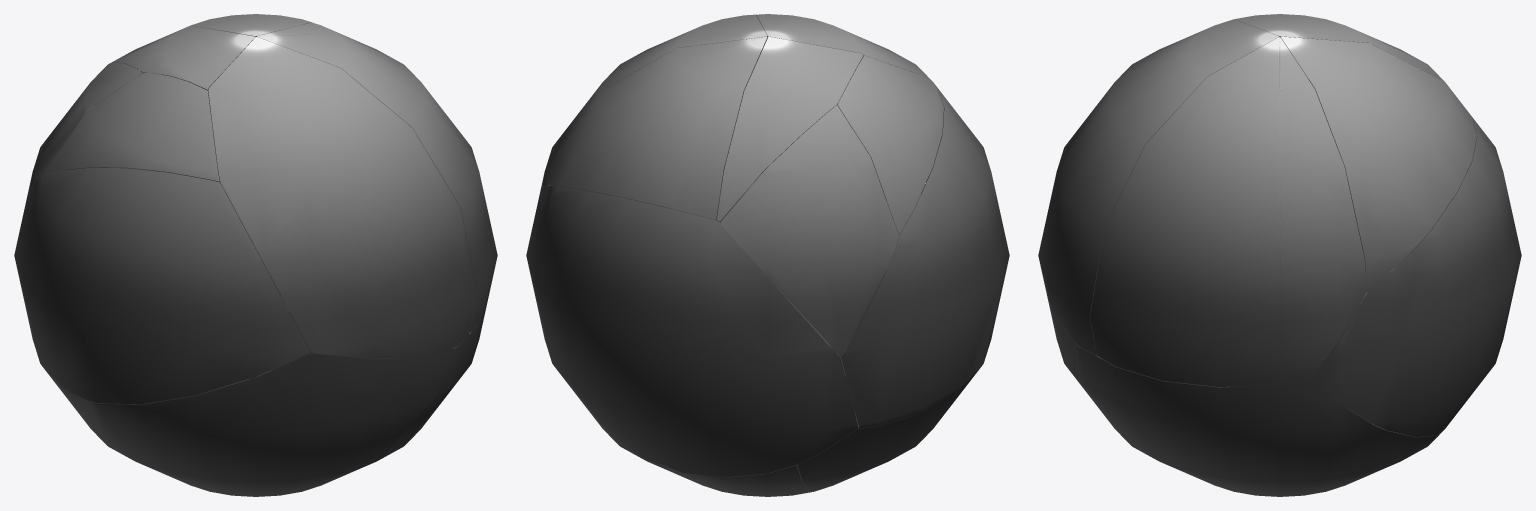
File: BallPieces.fbx
3 views of the same model, side by side, from view 1: azimuth 30°, elevation 25°; view 2: azimuth 150°, elevation 25°; view 3: azimuth 270°, elevation 25° (orthographic).
Parts seen in each view (by area): view 1: Sphere_cell, Sphere_cell.001, Sphere_cell.002, Sphere_cell.006, Sphere_cell.007, Sphere_cell.005, Sphere_cell.004, Sphere_cell.008, Sphere_cell.009; view 2: Sphere_cell.003, Sphere_cell.001, Sphere_cell.004, Sphere_cell.009, Sphere_cell.005, Sphere_cell.007, Sphere_cell.002, Sphere_cell.006, Sphere_cell, Sphere_cell.008; view 3: Sphere_cell.006, Sphere_cell.003, Sphere_cell.008, Sphere_cell.009, Sphere_cell, Sphere_cell.005, Sphere_cell.002.
Part boxes in pixels (x1,y1,x2,y2): Sphere_cell: [208, 37, 477, 358]; Sphere_cell.001: [14, 167, 310, 404]; Sphere_cell.002: [48, 304, 451, 496]; Sphere_cell.006: [257, 22, 497, 332]; Sphere_cell.007: [43, 73, 224, 190]; Sphere_cell.005: [112, 25, 254, 118]; Sphere_cell.004: [27, 62, 142, 195]; Sphere_cell.008: [270, 276, 488, 489]; Sphere_cell.009: [126, 14, 311, 75]; Sphere_cell.003: [526, 186, 858, 477]; Sphere_cell.001: [839, 89, 1009, 428]; Sphere_cell.004: [721, 105, 898, 356]; Sphere_cell.009: [541, 36, 767, 221]; Sphere_cell.005: [717, 36, 863, 222]; Sphere_cell.007: [837, 55, 943, 234]; Sphere_cell.002: [797, 184, 994, 491]; Sphere_cell.006: [543, 14, 767, 220]; Sphere_cell: [756, 14, 929, 182]; Sphere_cell.008: [583, 403, 811, 496]; Sphere_cell.006: [1090, 37, 1366, 386]; Sphere_cell.003: [1309, 117, 1521, 437]; Sphere_cell.008: [1075, 302, 1446, 496]; Sphere_cell.009: [1281, 36, 1476, 290]; Sphere_cell: [1038, 19, 1278, 355]; Sphere_cell.005: [1234, 14, 1444, 81]; Sphere_cell.002: [1042, 274, 1370, 431].
Size of the model in its own units: 200 by 200 by 200.
